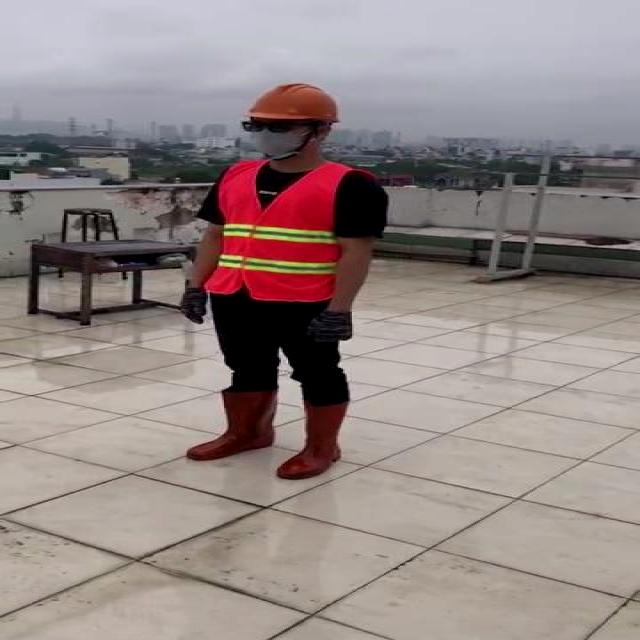boots: (272, 394, 363, 484), (182, 388, 284, 462)
face_mask: (243, 115, 314, 155)
glasses: (237, 115, 312, 137)
hand_glove: (300, 308, 354, 344), (179, 285, 207, 321)
head_helmet: (249, 78, 347, 124)
person: (170, 76, 394, 487)
vest: (201, 158, 377, 301)
